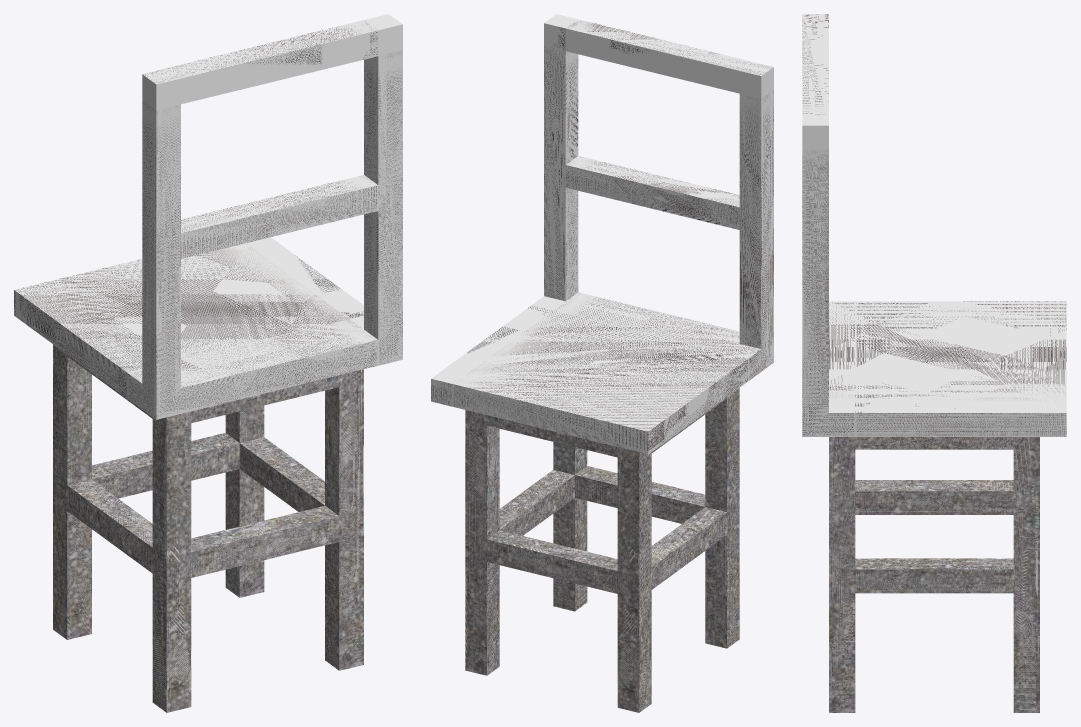
3 views of the same model, side by side, from view 1: azimuth 30°, elevation 25°; view 2: azimuth 150°, elevation 25°; view 3: azimuth 270°, elevation 25° (orthographic). The views are drawn at different scales.
Visible parts, largest first — view 1: mesh1_mesh1-geometry; view 2: mesh1_mesh1-geometry; view 3: mesh1_mesh1-geometry.
Part boxes in pixels (x1,y1,x2,y2): mesh1_mesh1-geometry: (14,14,402,712); mesh1_mesh1-geometry: (431,14,773,712); mesh1_mesh1-geometry: (802,14,1066,712).
Size of the model in its own units: 0.3482 by 0.8704 by 0.3482.
